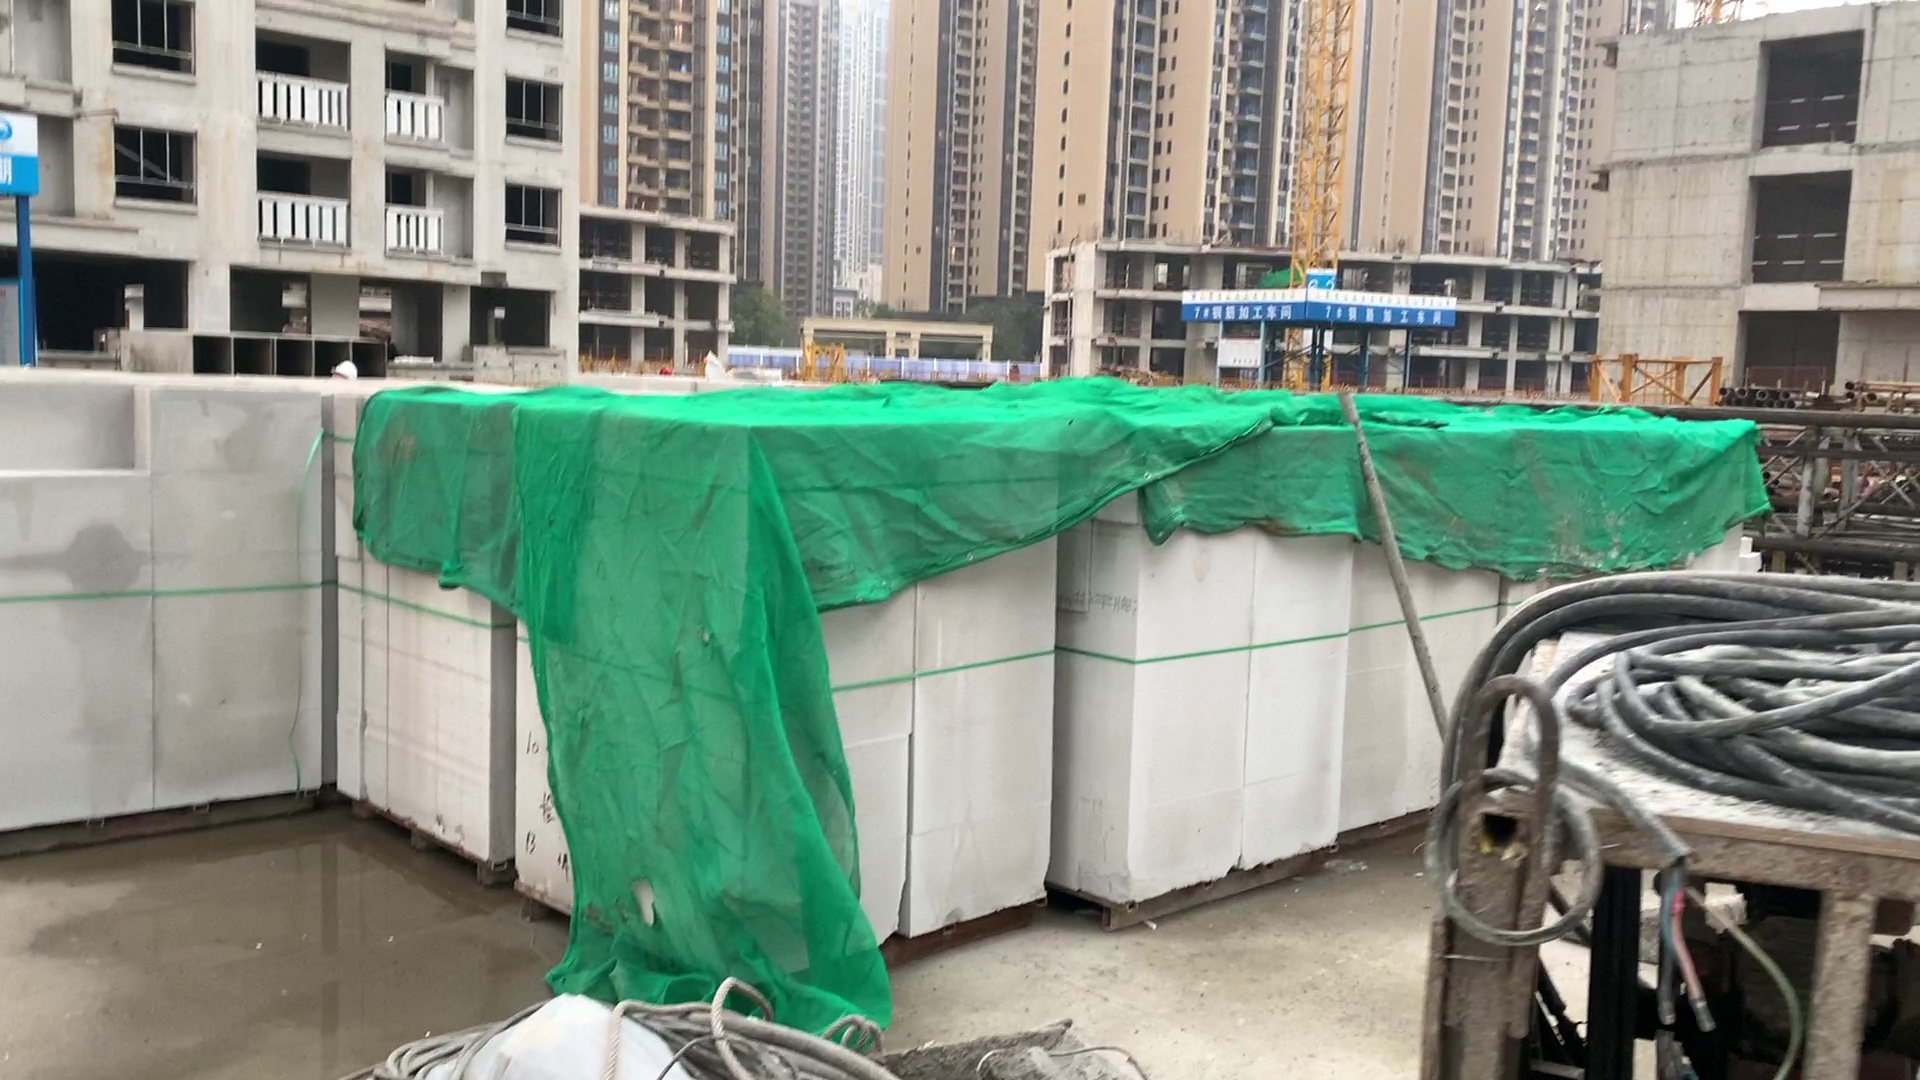brickwork: (522, 404, 764, 998), (3, 377, 334, 807), (330, 392, 500, 869), (1356, 442, 1489, 839), (1060, 434, 1147, 915), (1502, 431, 1749, 599)
